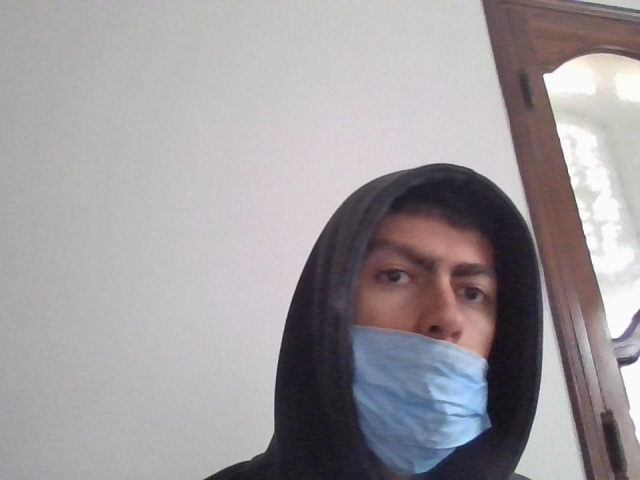mask_weared_incorrect: (337, 196, 511, 470)
